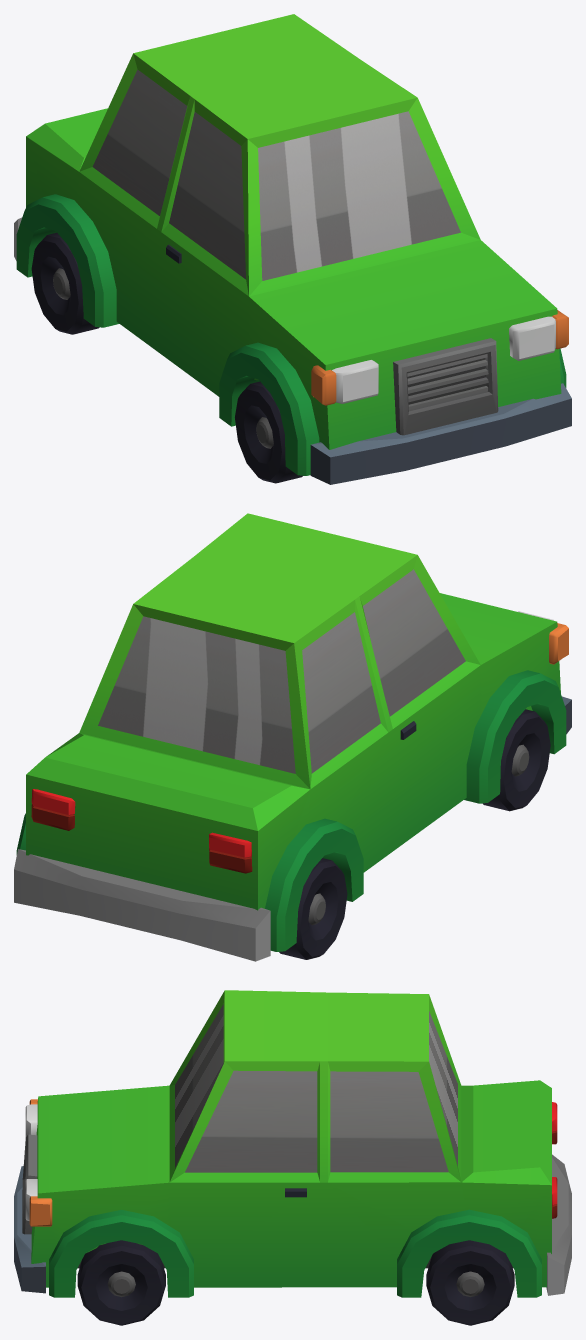
File: Car_2_5.glb
3 views of the same model, one above another, from view 1: azimuth 30°, elevation 25°; view 2: azimuth 150°, elevation 25°; view 3: azimuth 270°, elevation 25° (orthographic). The views are drawn at different scales.
Parts seen in each view (by area): view 1: Car_2_5, W_BR, W_FR; view 2: Car_2_5, W_FR, W_BR; view 3: Car_2_5, W_BL, W_FL.
Boxes of the visible parts, box(x1,y1,x2,y2) form: Car_2_5: box(14, 14, 571, 484); W_BR: box(31, 232, 99, 334); W_FR: box(235, 381, 302, 483); Car_2_5: box(14, 513, 571, 961); W_FR: box(482, 709, 550, 811); W_BR: box(279, 858, 347, 959); Car_2_5: box(14, 990, 571, 1297); W_BL: box(426, 1240, 514, 1325); W_FL: box(77, 1240, 165, 1325).
Size of the model in its own units: 1.09 by 1.11 by 2.28.
Materials: 5 (5 with a texture image).
